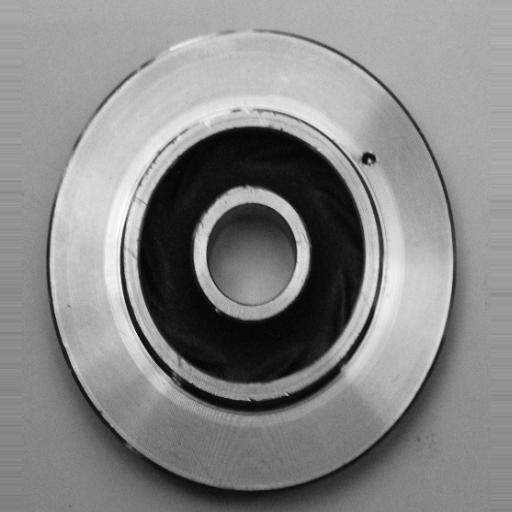pit: (354, 145, 386, 171)
scratch: (152, 99, 286, 151)
unpolished_casting: (49, 29, 458, 495)
